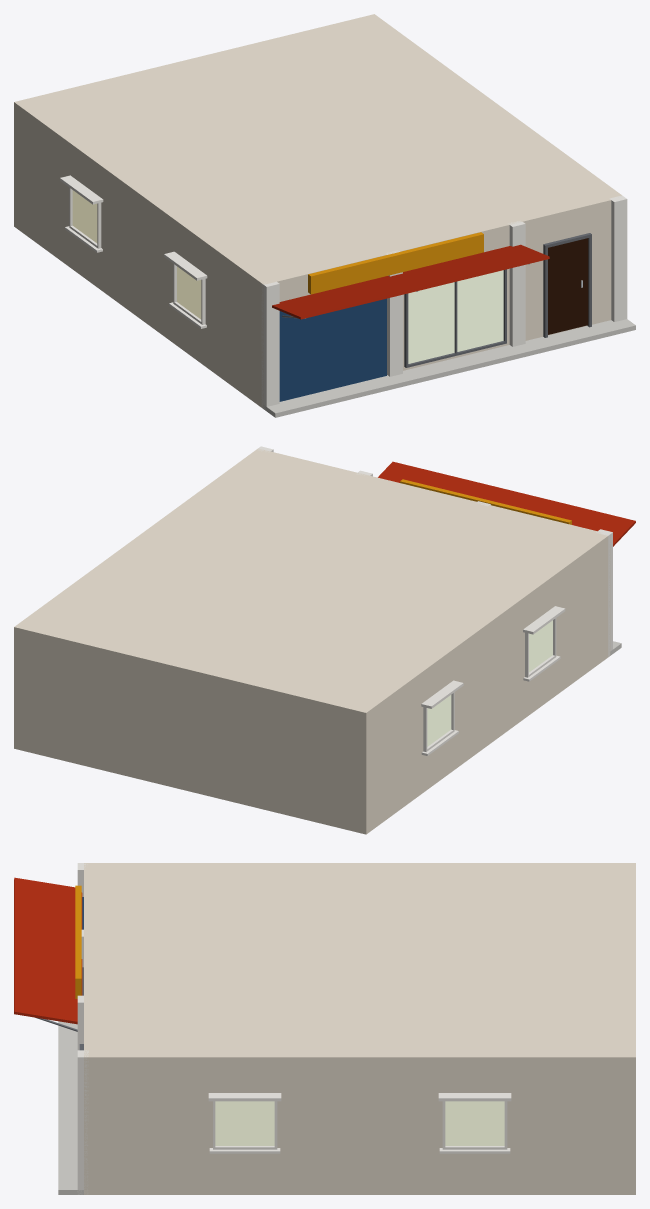
The model's file is SM_Floor_GroundShop.fbx.
3 views of the same model, one above another, from view 1: azimuth 30°, elevation 25°; view 2: azimuth 150°, elevation 25°; view 3: azimuth 270°, elevation 25° (orthographic). The views are drawn at different scales.
Visible parts, largest first — view 1: SM_Floor_GroundShop; view 2: SM_Floor_GroundShop; view 3: SM_Floor_GroundShop.
Part boxes in pixels (<box>): SM_Floor_GroundShop: <box>14,14,635,417</box>; SM_Floor_GroundShop: <box>14,446,635,834</box>; SM_Floor_GroundShop: <box>14,863,635,1194</box>.
Bounding box in the file's own units: 1058 × 332 × 1352.
